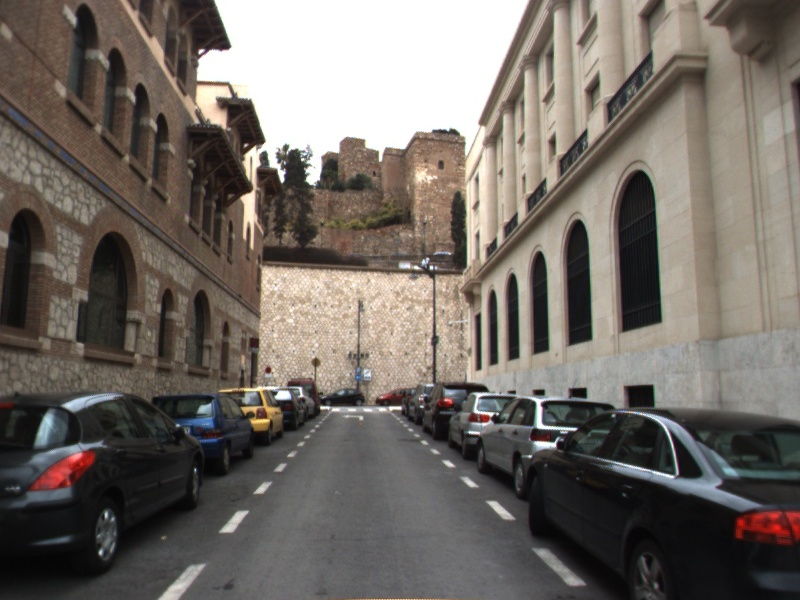LEFT: (340, 412, 366, 423)
